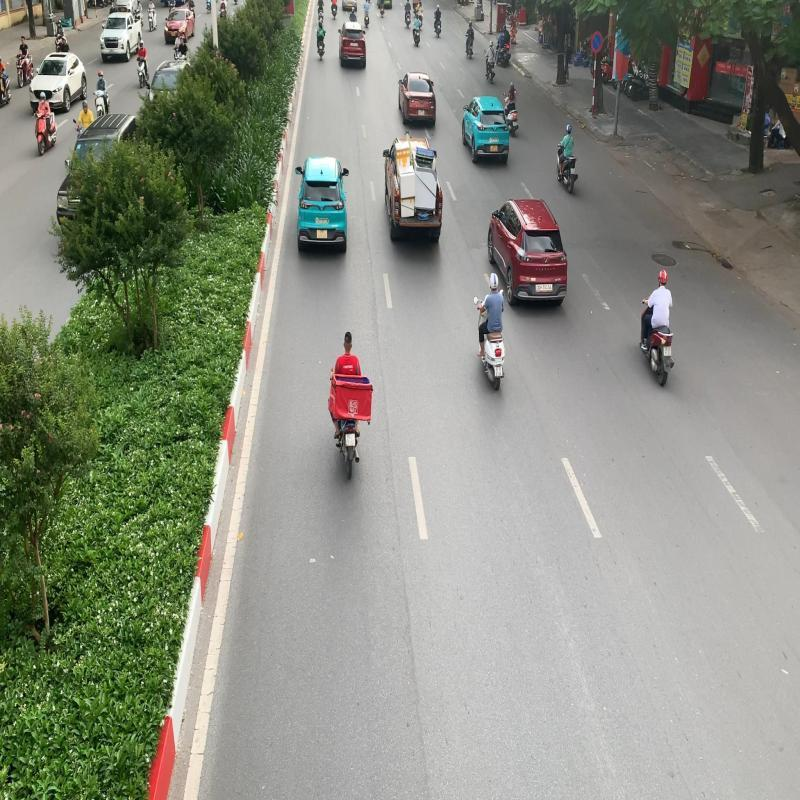helmet: (489, 271, 499, 290), (658, 268, 668, 284)
licenseplate: (344, 433, 358, 448), (494, 364, 503, 378), (663, 344, 672, 356)
motorcyclist: (324, 330, 379, 485), (638, 266, 675, 388), (473, 270, 508, 391)
nohelmet: (343, 330, 353, 351)
